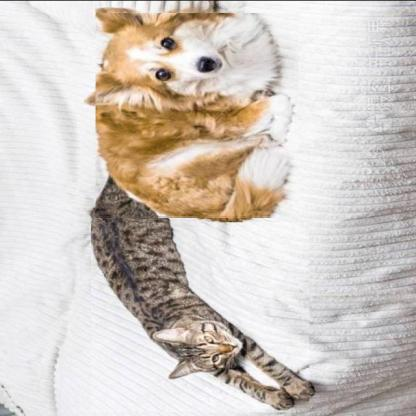cat: (91, 222, 309, 412)
dog: (96, 14, 298, 218)
